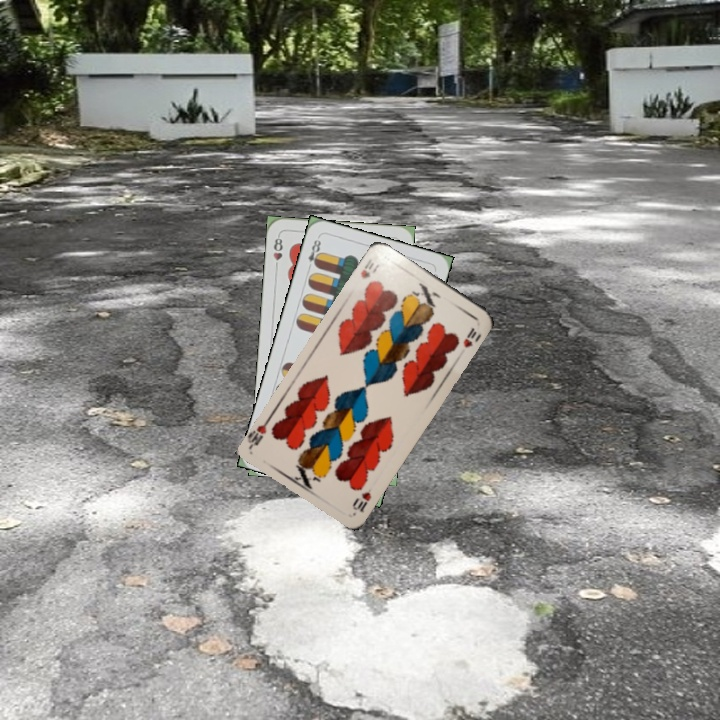E8: (304, 233, 324, 273)
H10: (356, 254, 382, 281), (348, 488, 374, 515)
H8: (269, 231, 285, 272)
